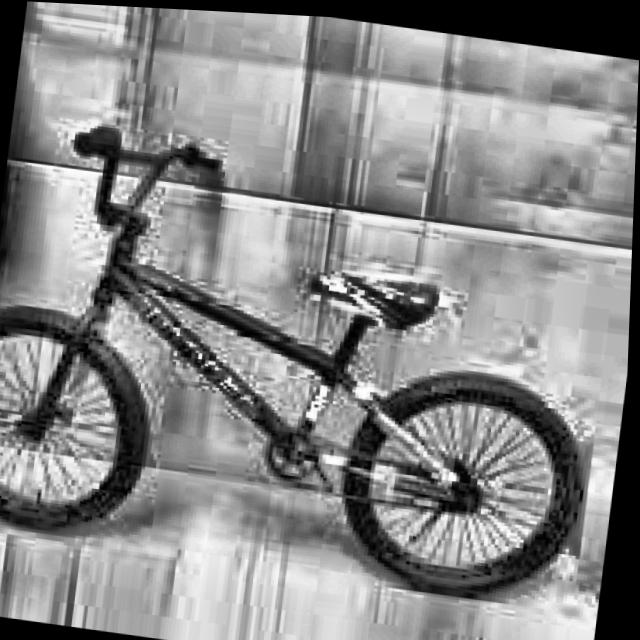bike: (0, 110, 630, 614)
